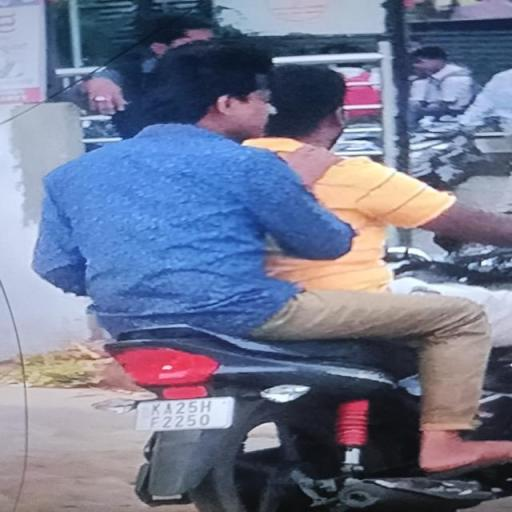numberplate: (134, 399, 231, 429)
withouthelmet: (162, 40, 272, 131), (270, 67, 346, 143)
